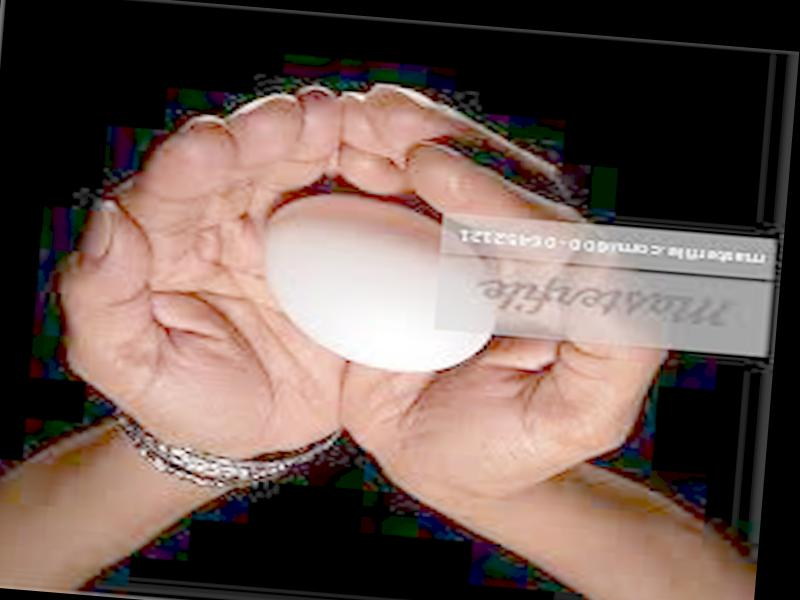Eggs: (252, 186, 497, 375)
